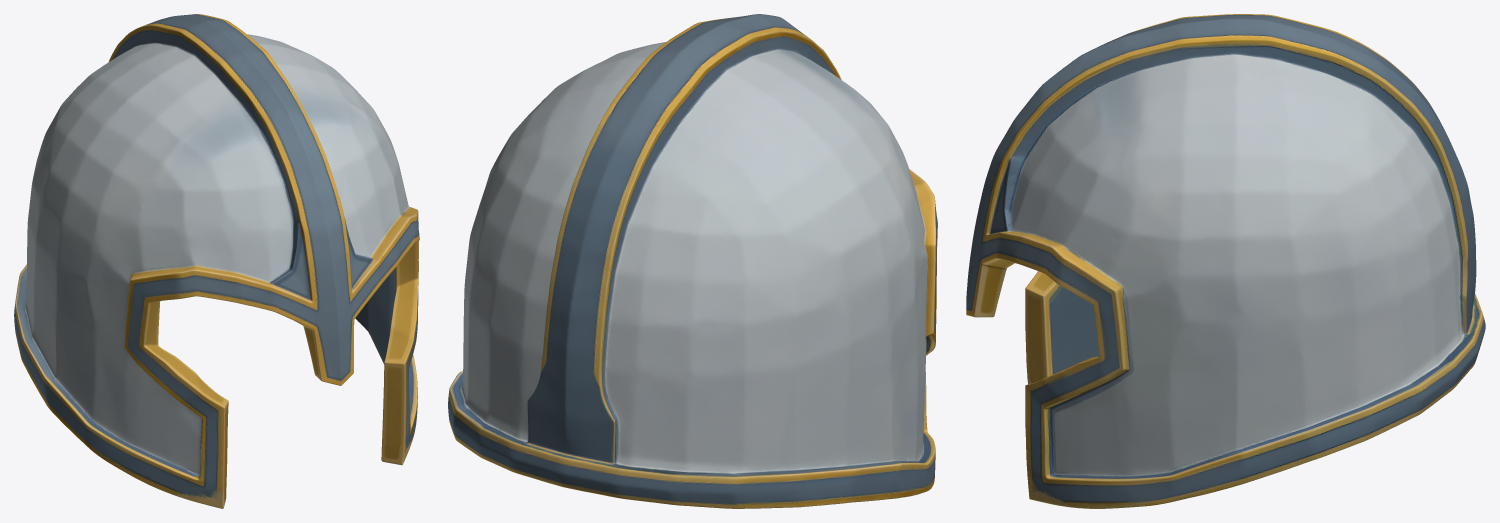
Rendered from dawnwarden-helmet-v1.glb.
The picture shows the model from 3 angles, left to right: view 1: azimuth 30°, elevation 25°; view 2: azimuth 150°, elevation 25°; view 3: azimuth 270°, elevation 25°; orthographic projection. The views are drawn at different scales.
Size of the model in its own units: 1.61 by 1.74 by 1.9.
1 material, 1 textured.
